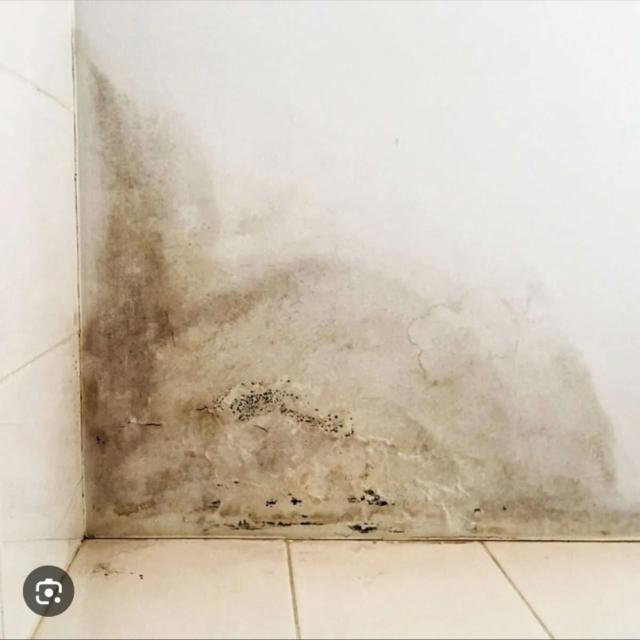wall_leaking: (88, 72, 636, 538)
